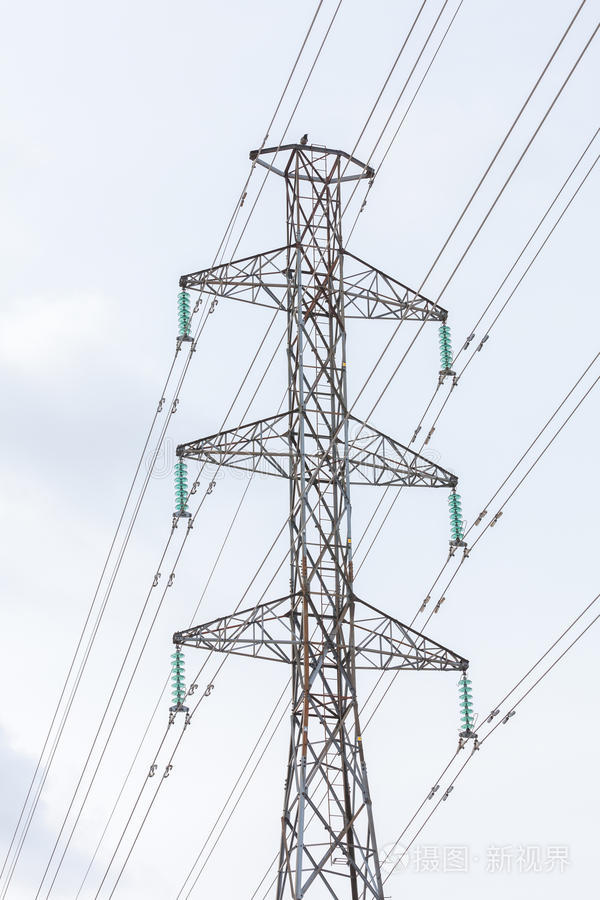insulator: (171, 648, 188, 710), (458, 674, 475, 735), (447, 492, 467, 541), (172, 463, 189, 512), (177, 290, 195, 336), (437, 325, 454, 373)
